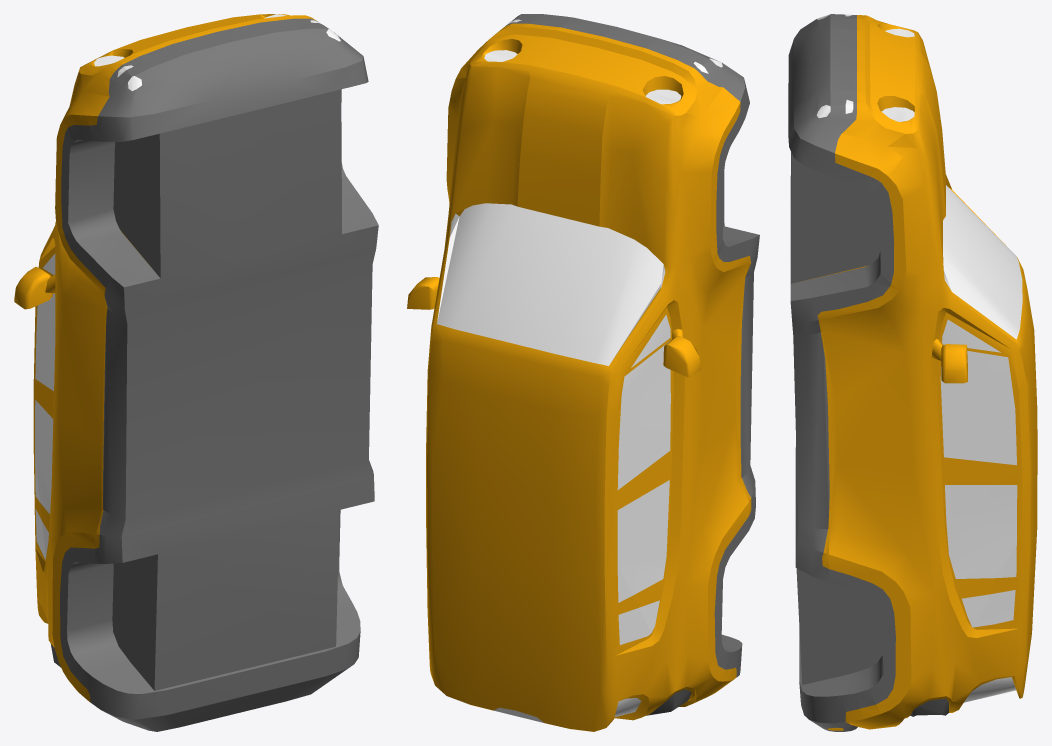
The model's file is SUV_New_LOD.FBX.
3 views of the same model, side by side, from view 1: azimuth 30°, elevation 25°; view 2: azimuth 150°, elevation 25°; view 3: azimuth 270°, elevation 25° (orthographic). The views are drawn at different scales.
Visible parts, largest first — view 1: SUV_New_LOD0; view 2: SUV_New_LOD0; view 3: SUV_New_LOD0.
Part boxes in pixels (x1=…): SUV_New_LOD0: x1=14, y1=14, x2=378, y2=731; SUV_New_LOD0: x1=407, y1=14, x2=759, y2=731; SUV_New_LOD0: x1=788, y1=14, x2=1037, y2=731.
Size of the model in its own units: 485 by 371 by 1058.
